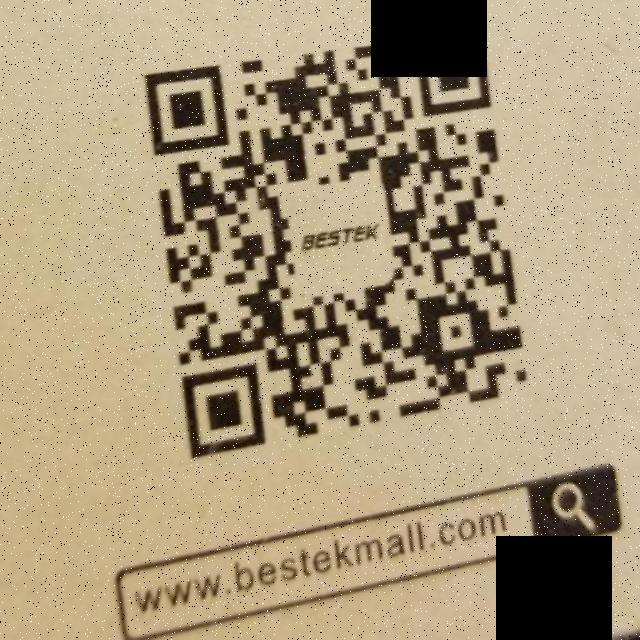QR_CODE: (125, 22, 545, 468)
